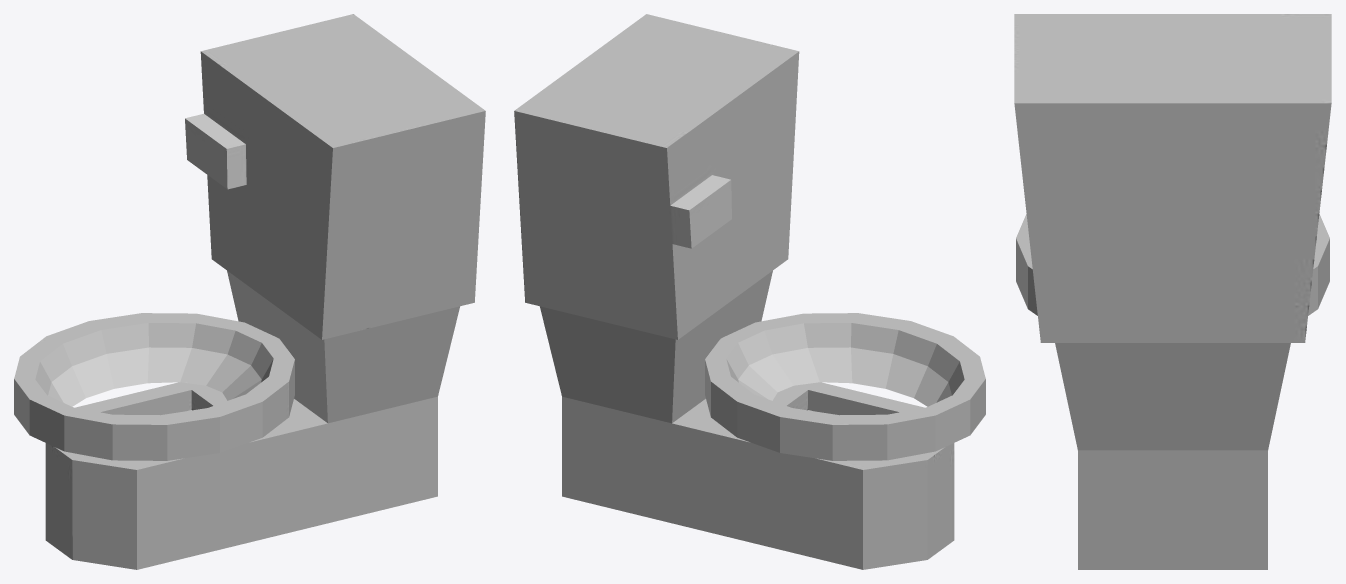
Rendered from toilette1.fbx.
The picture shows the model from 3 angles, left to right: view 1: azimuth 30°, elevation 25°; view 2: azimuth 150°, elevation 25°; view 3: azimuth 270°, elevation 25°; orthographic projection. The views are drawn at different scales.
Visible parts, largest first — view 1: Toilette1; view 2: Toilette1; view 3: Toilette1.
Part boxes in pixels (bbox=[...]): Toilette1: bbox=[14, 14, 485, 569]; Toilette1: bbox=[514, 14, 985, 569]; Toilette1: bbox=[1014, 14, 1331, 569].
Size of the model in its own units: 163 by 160 by 96.
1 material, 1 textured.
